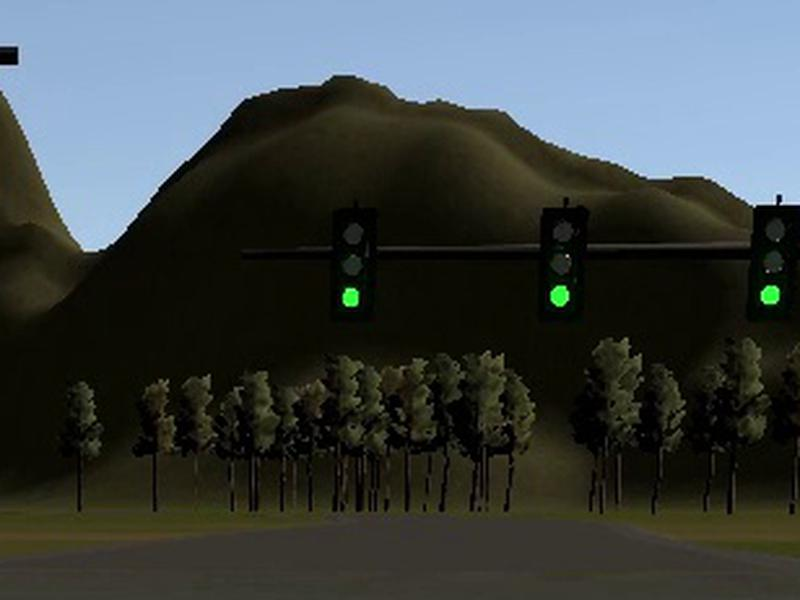Green: (538, 204, 589, 321), (327, 207, 377, 322), (750, 204, 797, 322)
